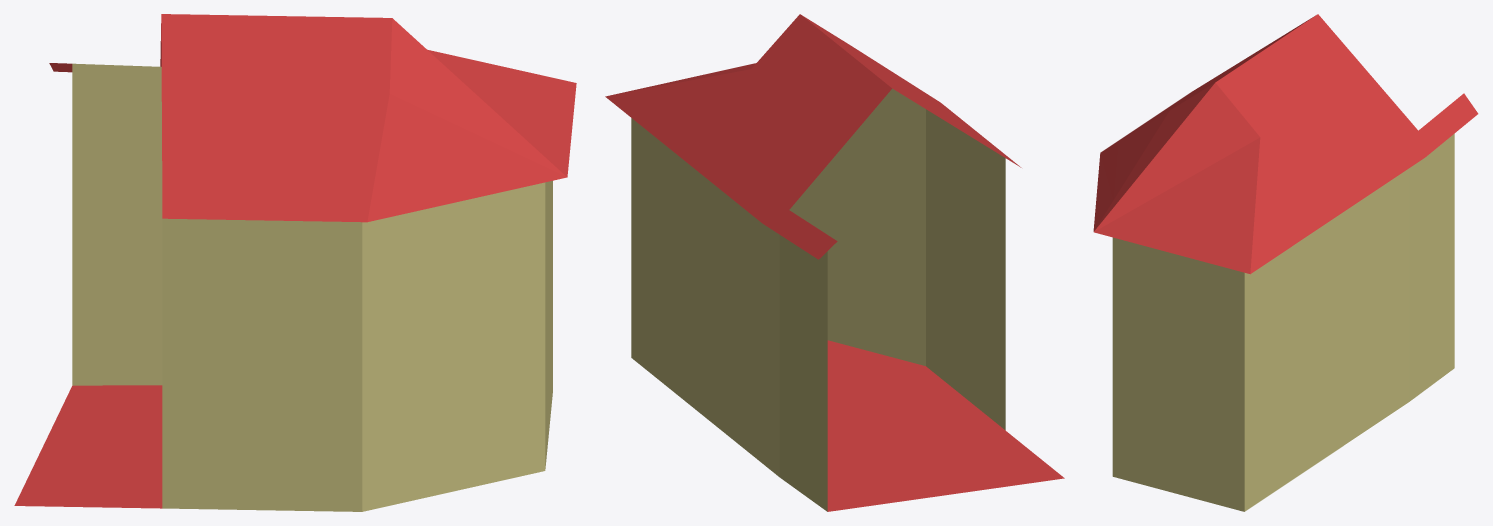
3 renders of one model, left to right at view 1: azimuth 30°, elevation 25°; view 2: azimuth 150°, elevation 25°; view 3: azimuth 270°, elevation 25°, orthographic. The views are drawn at different scales.
Bounding box in the file's own units: 20.89 × 15.3 × 15.66.
